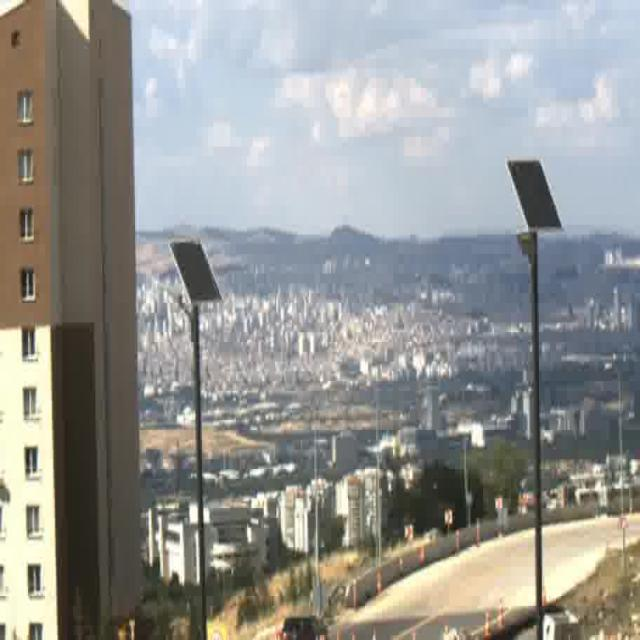Car: (278, 614, 328, 640)
